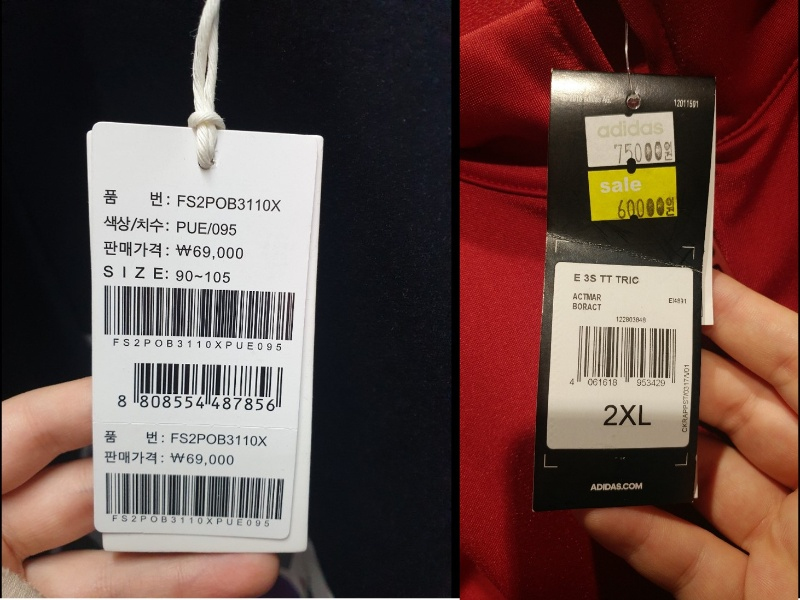tag: (86, 120, 320, 555), (537, 66, 712, 509)
text: (109, 335, 284, 355), (108, 513, 273, 532), (173, 193, 284, 216), (167, 429, 269, 450), (103, 187, 171, 210), (173, 242, 247, 263), (101, 213, 171, 235), (99, 240, 171, 261), (100, 263, 171, 284), (618, 195, 676, 220), (601, 402, 654, 429), (616, 139, 675, 163), (167, 451, 234, 470), (207, 395, 277, 413), (101, 427, 166, 446), (103, 449, 165, 468), (568, 271, 642, 286), (174, 267, 233, 285), (139, 395, 208, 410), (567, 301, 605, 314), (614, 313, 651, 325), (571, 289, 605, 301), (586, 376, 620, 388), (635, 378, 669, 388), (664, 293, 687, 307)
